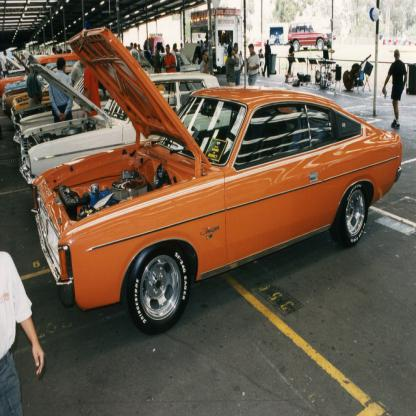Car: (0, 15, 402, 332)
